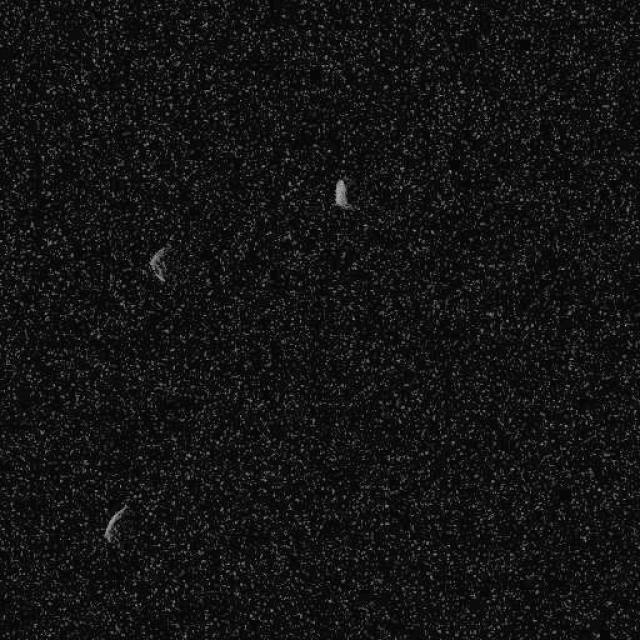D2: (102, 502, 128, 544), (148, 244, 172, 282), (332, 178, 348, 208)
